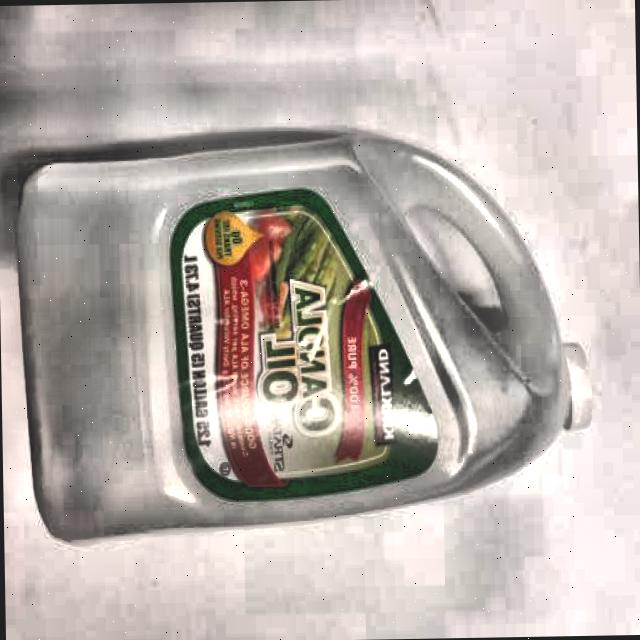plastic: (12, 132, 598, 540)
